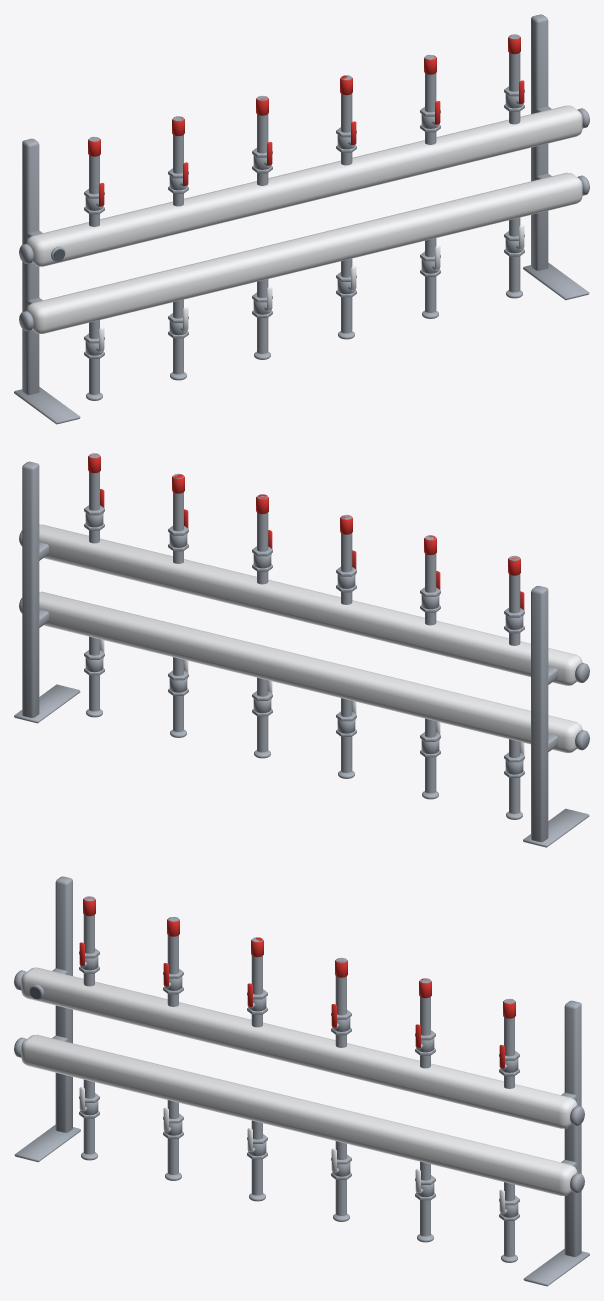
Rendered from heizung.verteiler.n6.glb.
The picture shows the model from 3 angles, top to bottom: view 1: azimuth 30°, elevation 25°; view 2: azimuth 150°, elevation 25°; view 3: azimuth 330°, elevation 25°; orthographic projection.
Visible parts, largest first — view 1: heizung.verteiler.n6; view 2: heizung.verteiler.n6; view 3: heizung.verteiler.n6.
Part boxes in pixels (box(x1,y1,x2,y2)): heizung.verteiler.n6: box(14, 14, 589, 424); heizung.verteiler.n6: box(14, 453, 589, 847); heizung.verteiler.n6: box(14, 876, 589, 1286).
Size of the model in its own units: 2.28 by 1 by 0.3.
